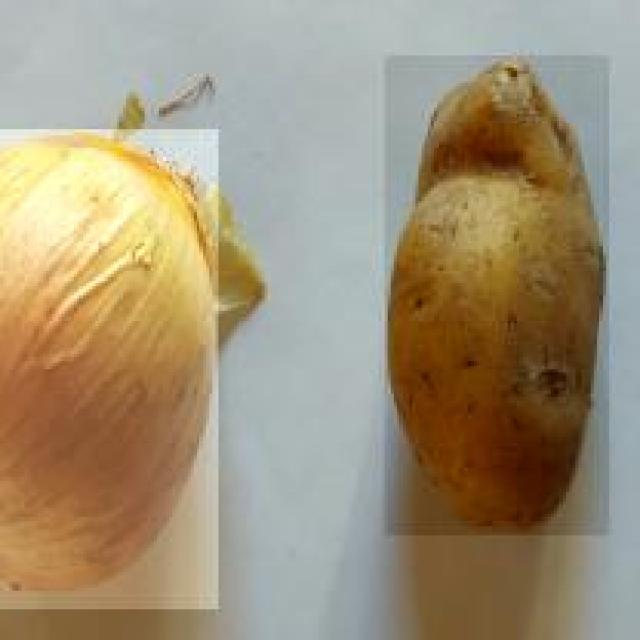onion: (0, 129, 219, 612)
potato: (382, 56, 609, 538)
